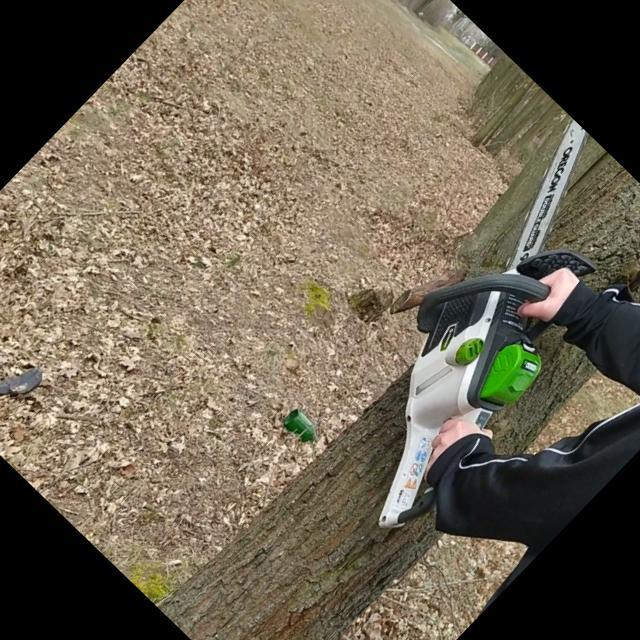Chainsaw: (268, 113, 640, 548)
